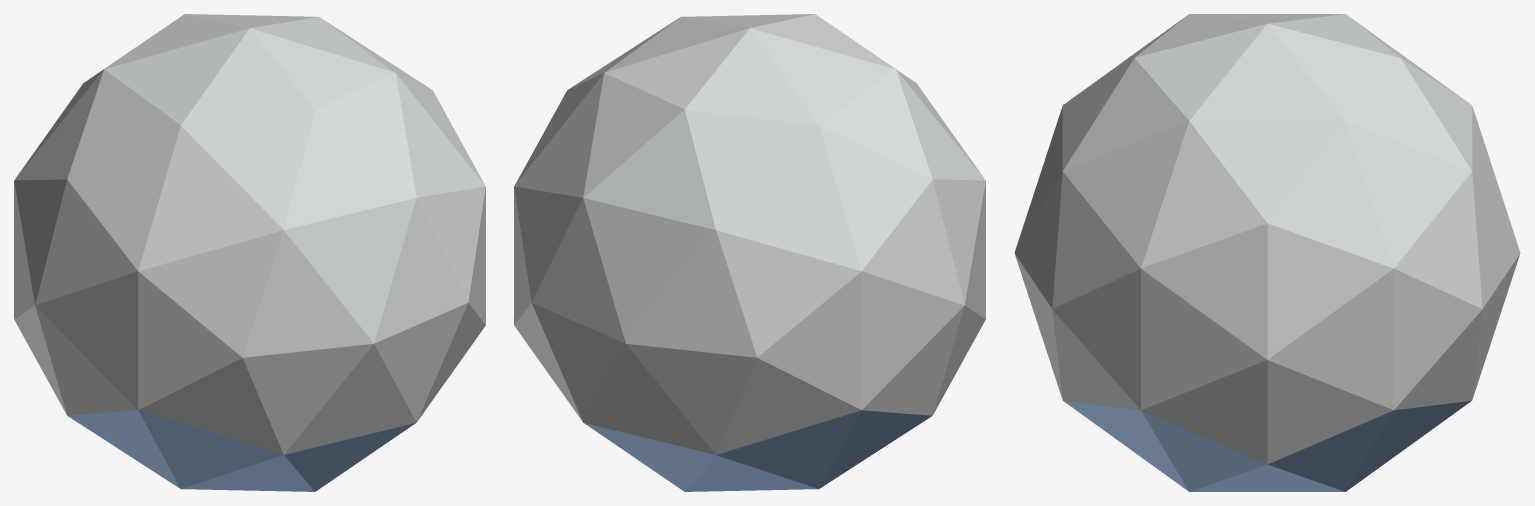
Rendered from puff.glb.
3 views of the same model, side by side, from view 1: azimuth 30°, elevation 25°; view 2: azimuth 150°, elevation 25°; view 3: azimuth 270°, elevation 25° (orthographic).
Parts seen in each view (by area): view 1: Puff; view 2: Puff; view 3: Puff.
Boxes of the visible parts, <box> form: Puff: <box>14,14,485,491</box>; Puff: <box>514,14,985,491</box>; Puff: <box>1014,14,1520,491</box>.
Bounding box in the file's own units: 2 × 1.85 × 2.
